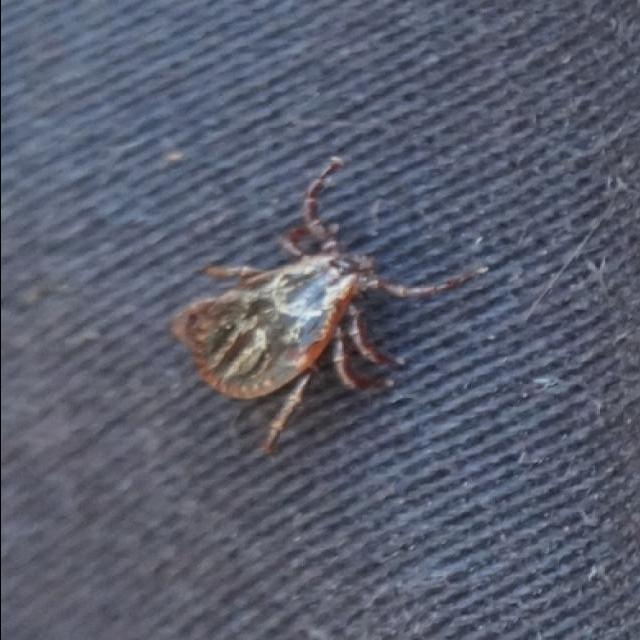Dermacentor Reticulatus-M: (167, 156, 487, 456)
